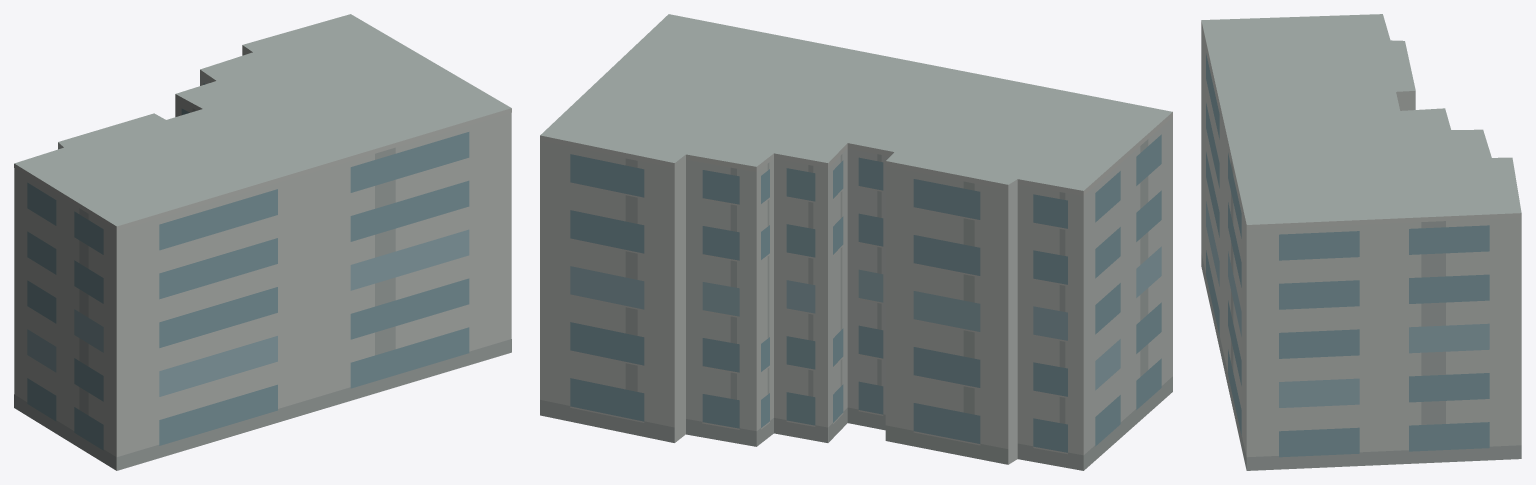
Rendered from survey-upis-32937485.glb.
3 renders of one model, left to right at view 1: azimuth 30°, elevation 25°; view 2: azimuth 150°, elevation 25°; view 3: azimuth 270°, elevation 25°, orthographic. The views are drawn at different scales.
Parts seen in each view (by area): view 1: survey-upis-32937485.tmp; view 2: survey-upis-32937485.tmp; view 3: survey-upis-32937485.tmp.
Boxes of the visible parts, x1,y1,x2,y2 form: survey-upis-32937485.tmp: [14, 14, 511, 470]; survey-upis-32937485.tmp: [540, 14, 1172, 470]; survey-upis-32937485.tmp: [1201, 14, 1521, 470].
Bounding box in the file's own units: 23.57 × 12.8 × 15.12.
